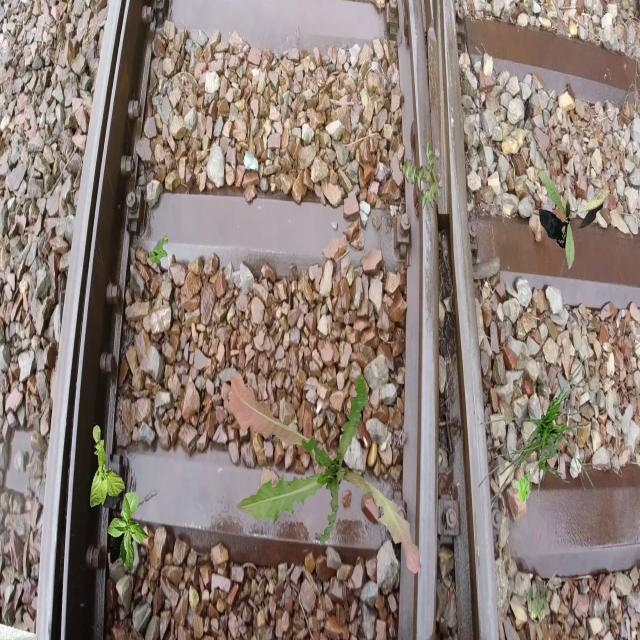Plant: (228, 372, 420, 574), (478, 355, 596, 518), (539, 170, 610, 270), (108, 492, 150, 572), (90, 425, 126, 508), (399, 139, 441, 210), (524, 580, 550, 622), (511, 470, 532, 503), (149, 235, 168, 268)
